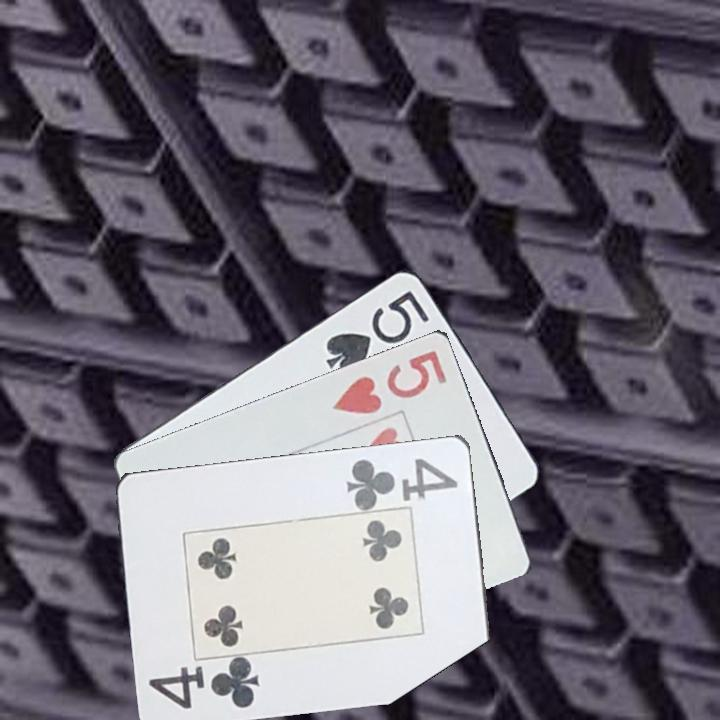4c: (145, 656, 263, 713), (343, 454, 461, 510)
5h: (328, 346, 450, 417)
5s: (322, 285, 433, 378)
